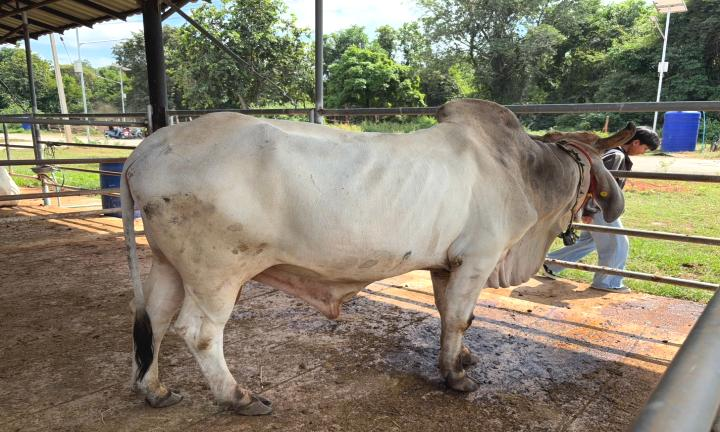Brahman: (121, 99, 634, 415)
